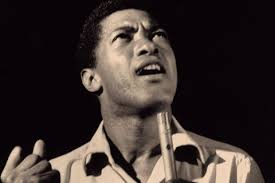black_male: (90, 14, 179, 119)
